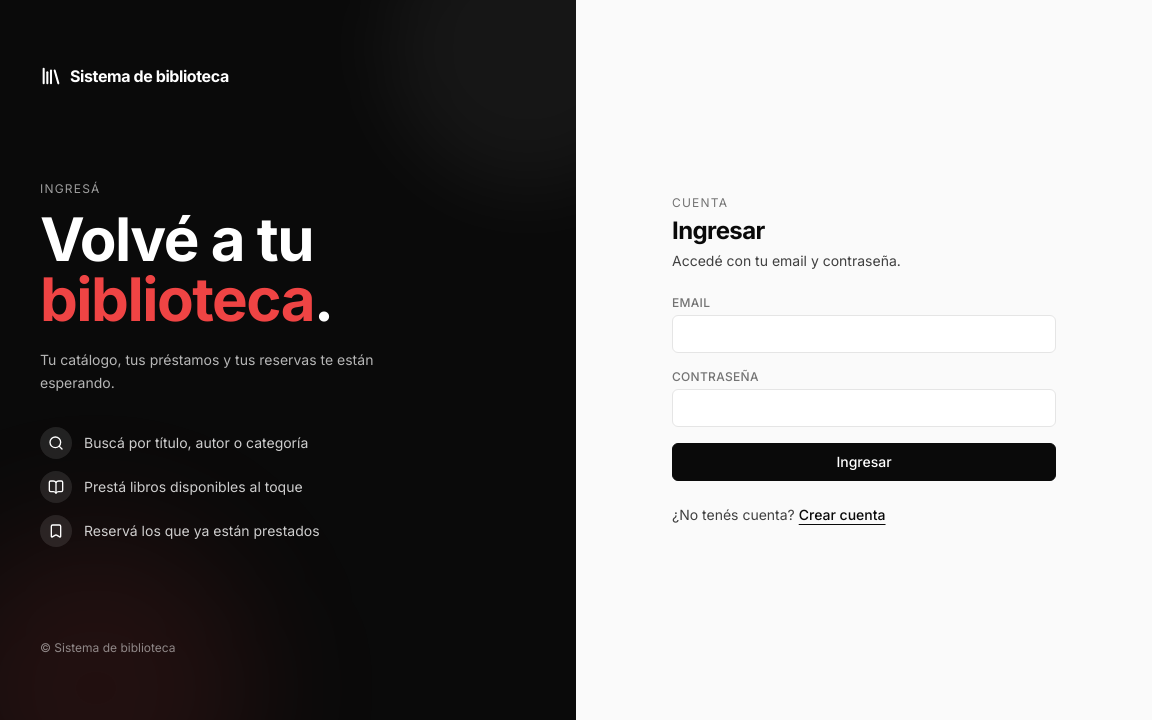
it: LoginPage › muestra 'Credenciales inválidas' cuando el backend responde 401
Type "a@b.c" into the field labelled "Email" at (864, 334), box [672,315,1056,353]
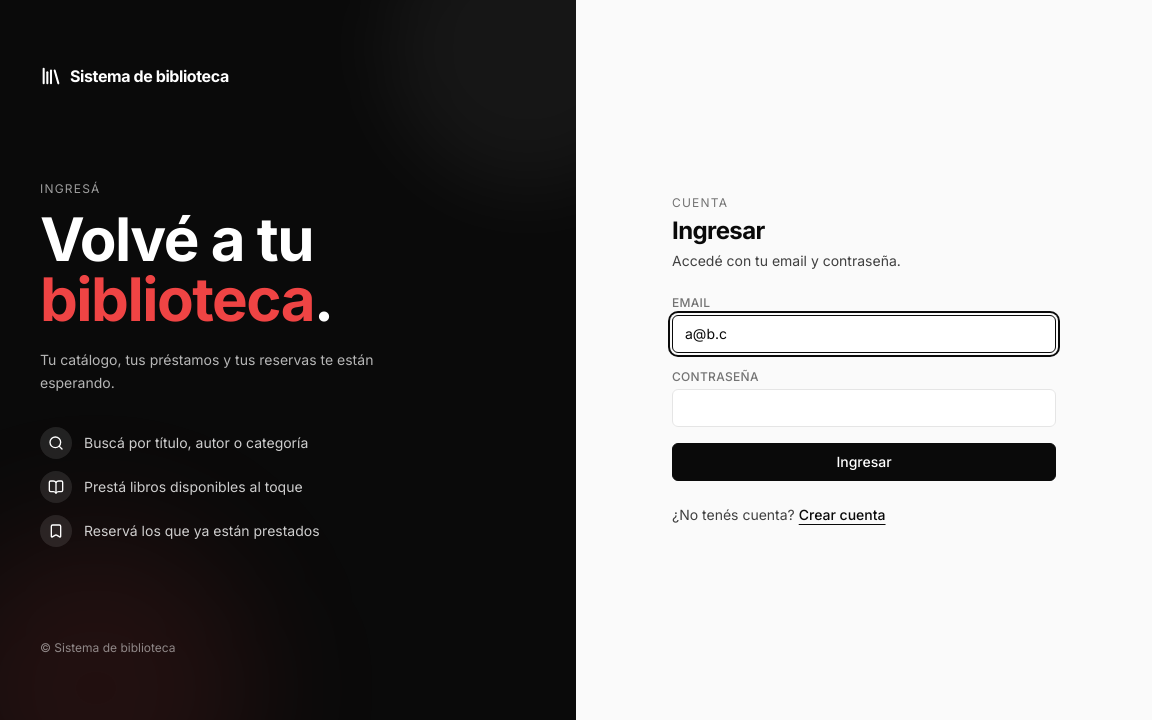
Type "wrong" into the password field labelled "Contraseña" at (864, 408), box [672,389,1056,427]
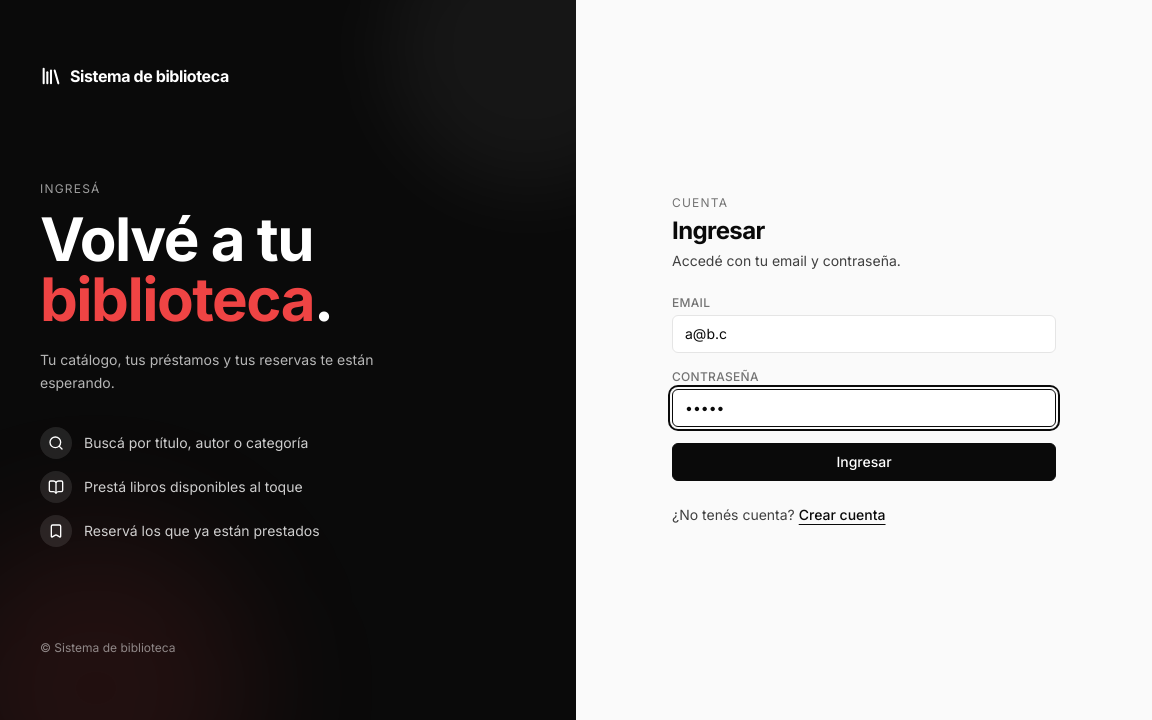
Click the button "Ingresar" at (864, 462), box [672,443,1056,481]
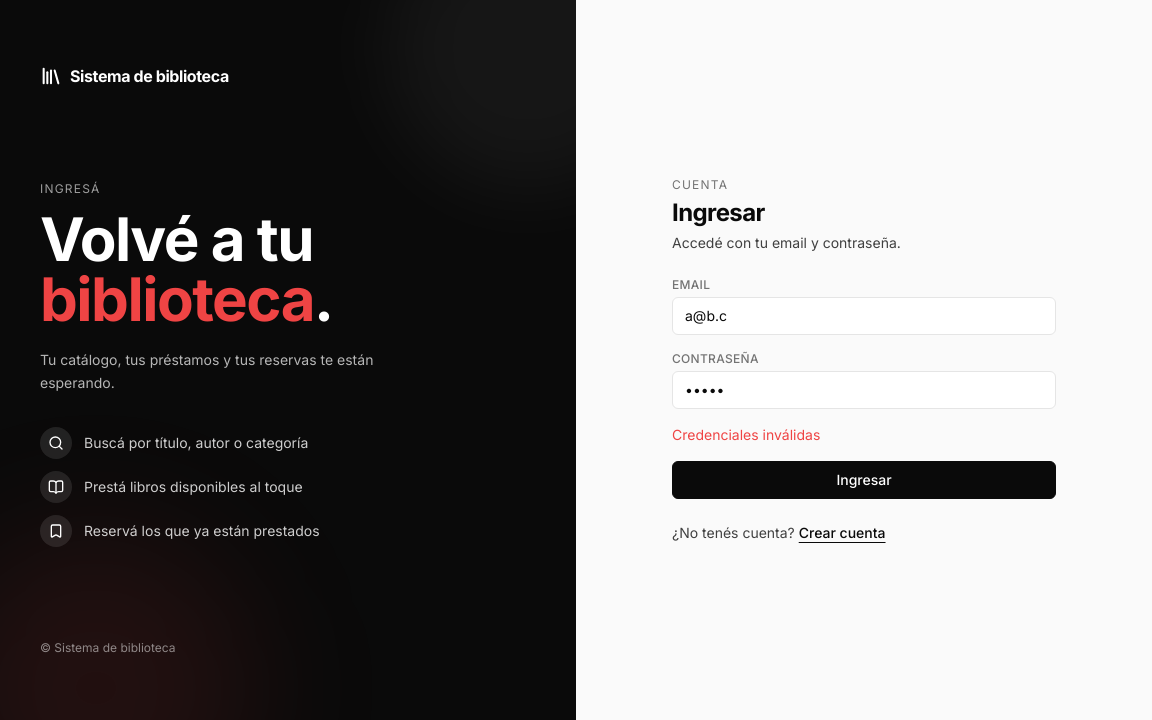
Check: the message reads "Credenciales inválidas", box [672,426,820,443]
